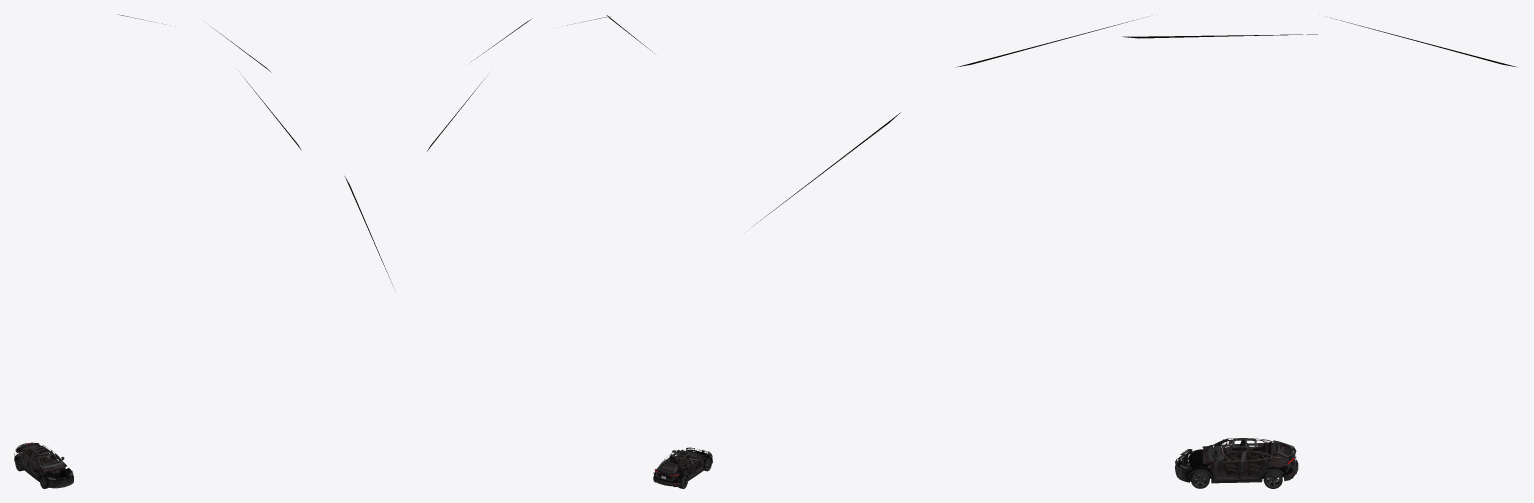
File: urus_parts2.glb
3 views of the same model, side by side, from view 1: azimuth 30°, elevation 25°; view 2: azimuth 150°, elevation 25°; view 3: azimuth 270°, elevation 25° (orthographic). The views are drawn at different scales.
Visible parts, largest first — view 1: Kit1_Interior_Geo_lodA_Lamborghini_UrusRewardRecycled_2018In, Coloured_Geo_lodA_Lamborghini_UrusRewardRecycled_2018Coloure, body:Paint_Geo_lodABody_lodA; view 2: Kit1_Interior_Geo_lodA_Lamborghini_UrusRewardRecycled_2018In, Coloured_Geo_lodA_Lamborghini_UrusRewardRecycled_2018Coloure, body:Paint_Geo_lodABody_lodA; view 3: Kit1_Interior_Geo_lodA_Lamborghini_UrusRewardRecycled_2018In, Coloured_Geo_lodA_Lamborghini_UrusRewardRecycled_2018Coloure, body:Paint_Geo_lodABody_lodA.
Part boxes in pixels (x1,y1,x2,y2): Kit1_Interior_Geo_lodA_Lamborghini_UrusRewardRecycled_2018In: (18,443,65,479); Coloured_Geo_lodA_Lamborghini_UrusRewardRecycled_2018Coloure: (14,443,73,487); body:Paint_Geo_lodABody_lodA: (14,442,73,488); Kit1_Interior_Geo_lodA_Lamborghini_UrusRewardRecycled_2018In: (657,450,703,479); Coloured_Geo_lodA_Lamborghini_UrusRewardRecycled_2018Coloure: (653,449,712,487); body:Paint_Geo_lodABody_lodA: (653,449,712,486); Kit1_Interior_Geo_lodA_Lamborghini_UrusRewardRecycled_2018In: (1209,439,1294,479); Coloured_Geo_lodA_Lamborghini_UrusRewardRecycled_2018Coloure: (1180,438,1298,482); body:Paint_Geo_lodABody_lodA: (1175,440,1297,483).
Size of the model in its own units: 0.1473 by 0.2664 by 0.3209.
19 materials, 14 textured.
